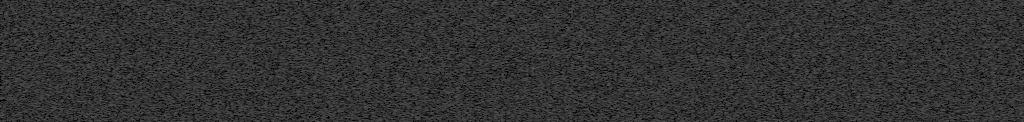wv_am: (616, 0, 621, 122)
wv_cw: (111, 0, 116, 122), (130, 0, 135, 122), (127, 0, 132, 122), (726, 0, 731, 122)
wv_lsb: (138, 67, 143, 122), (244, 62, 248, 122), (244, 3, 248, 59), (53, 61, 60, 91), (138, 2, 143, 23), (138, 46, 143, 62), (53, 47, 60, 58), (702, 76, 706, 94), (53, 108, 60, 118), (54, 94, 60, 105), (138, 24, 143, 34), (138, 38, 143, 45), (702, 115, 707, 120), (702, 39, 706, 45), (138, 63, 143, 66), (702, 33, 706, 36)
